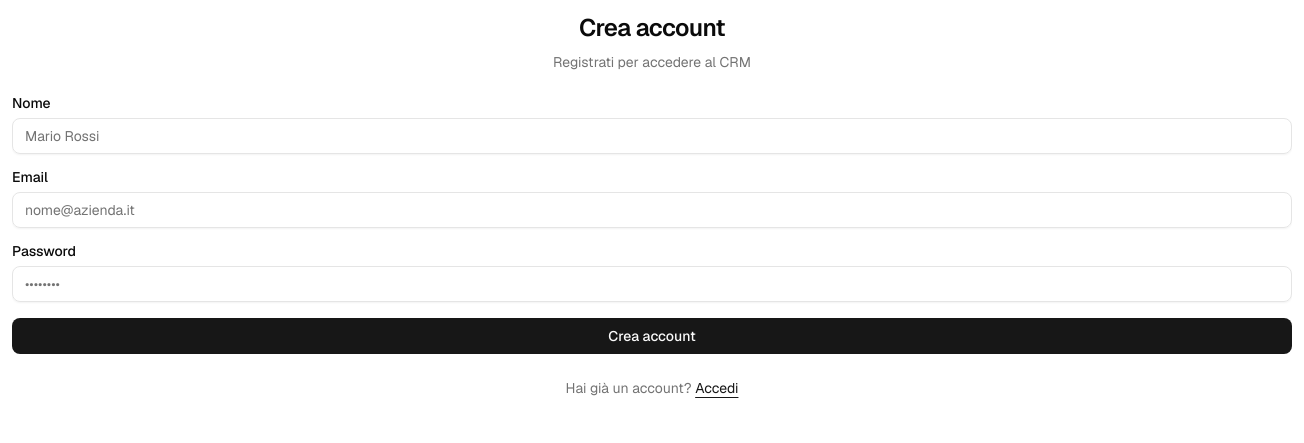
SignUpForm › shows validation error when password is too short
The width and height of the screenshot is (1304, 443).
Type "Test User" into the field labelled "Nome".
click(652, 136); type("Test User")  # box [12, 118, 1292, 154]
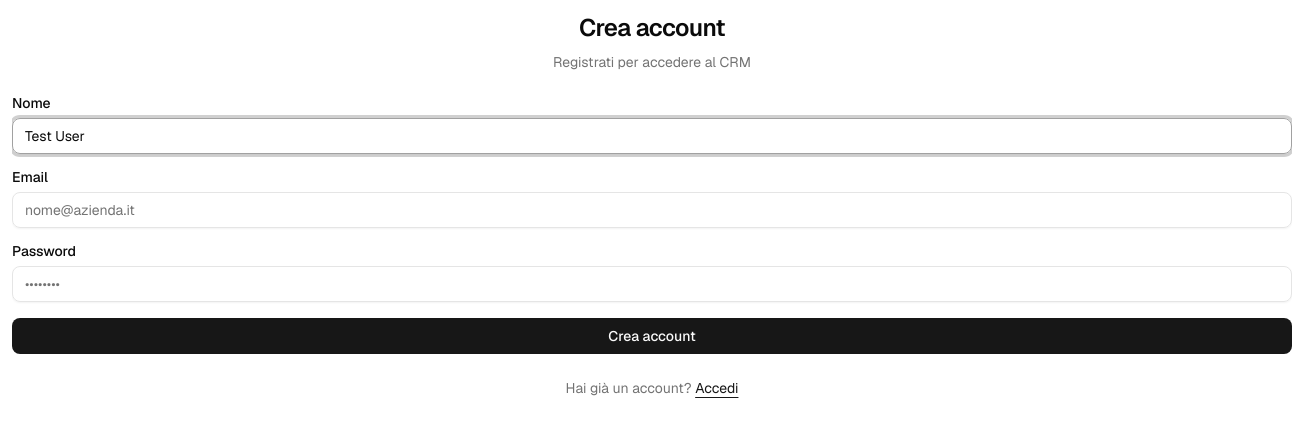
Type "test@example.com" into the field labelled "Email".
click(652, 210); type("test@example.com")  # box [12, 192, 1292, 228]
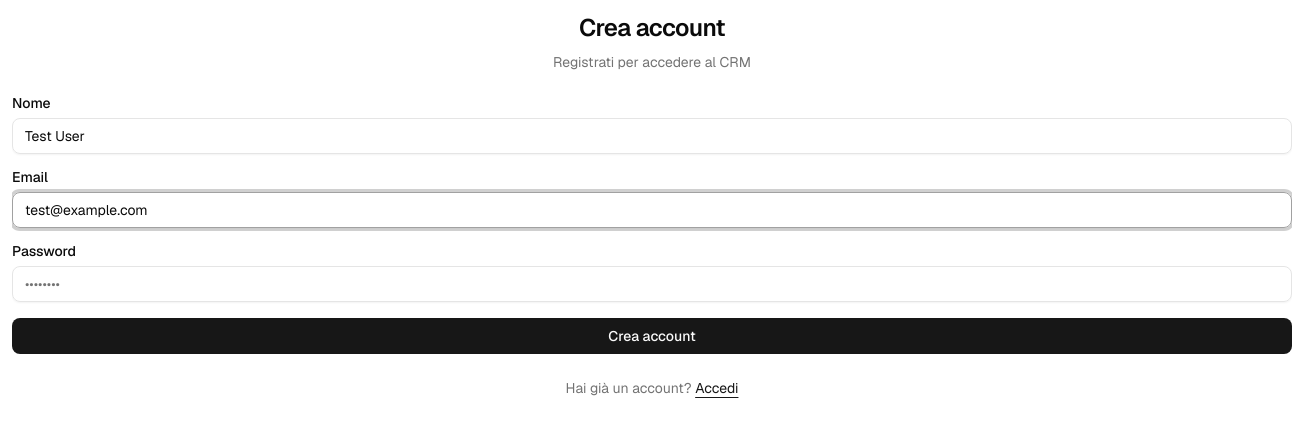
Type "short" into the password field labelled "Password".
click(652, 284); type("short")  # box [12, 266, 1292, 302]
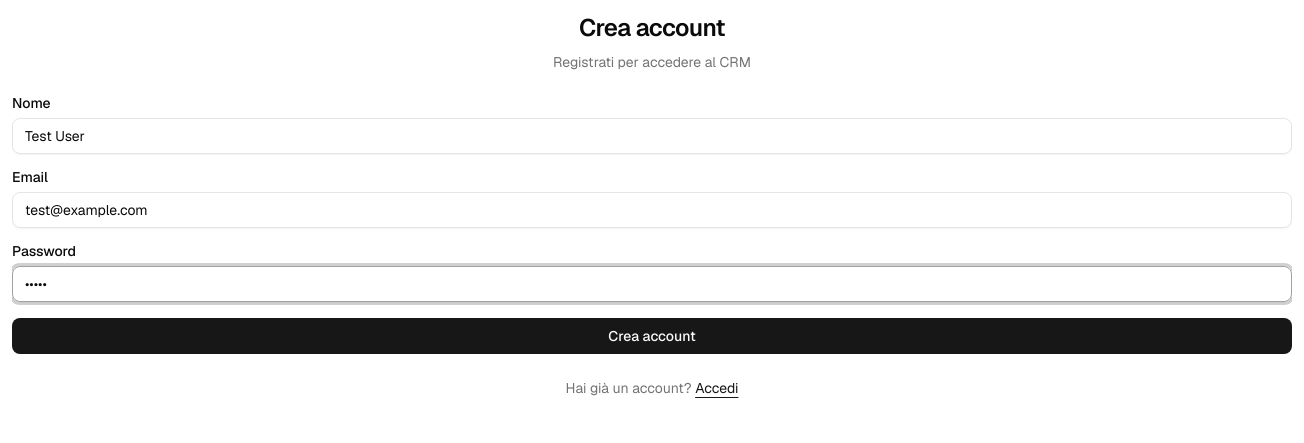
Click the button "Crea account".
click(652, 336)  # box [12, 318, 1292, 354]
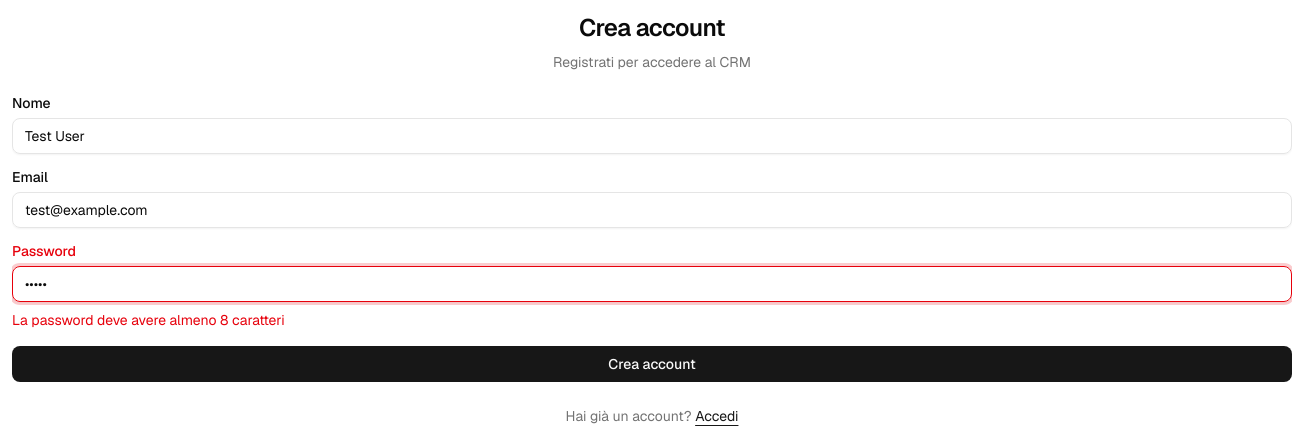
Expected: the text "La password deve avere almeno 8 caratteri" is shown, [12, 311, 285, 329]
